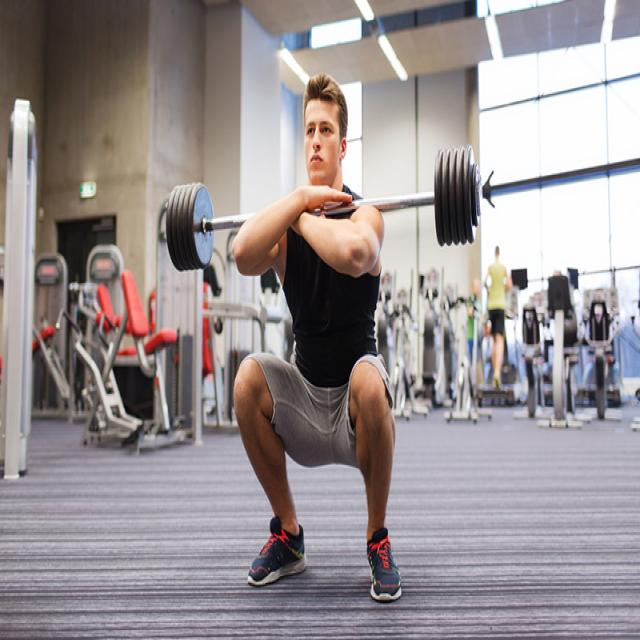squat: (153, 55, 499, 605)
